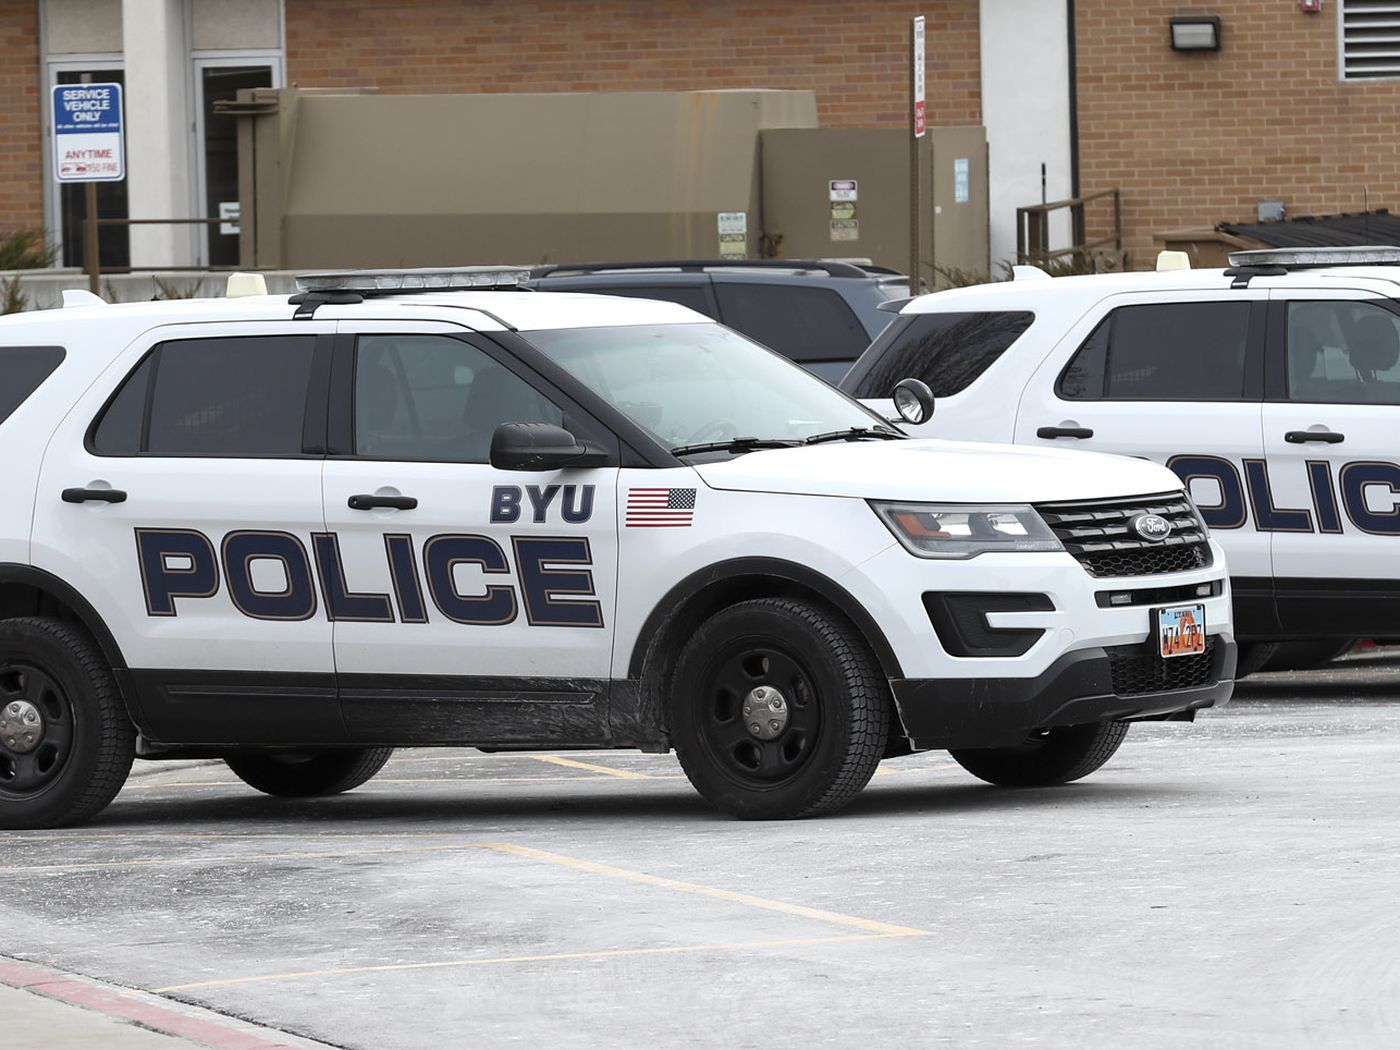special: (3, 294, 1235, 819), (839, 271, 1400, 672)
